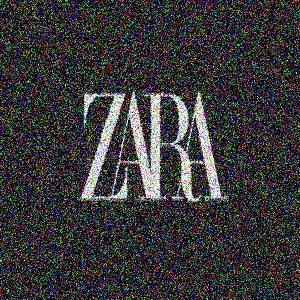zara: (195, 44, 269, 130)
